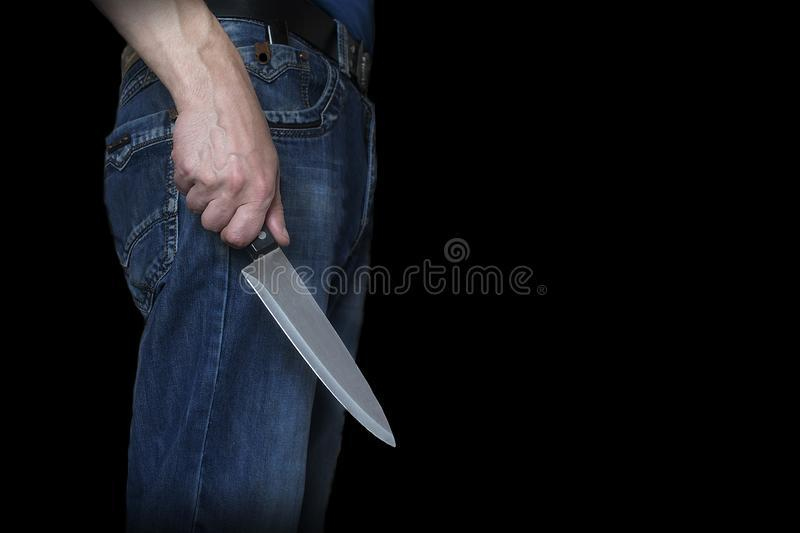weapon: (219, 208, 400, 452)
